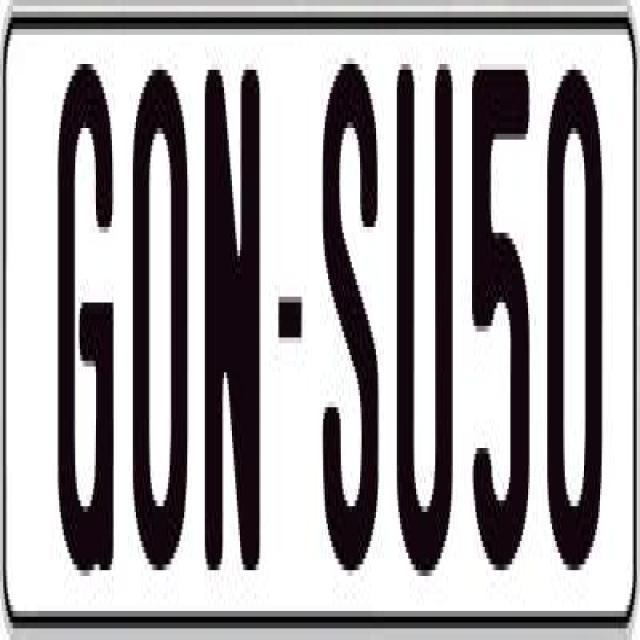0: (547, 58, 611, 588), (128, 70, 184, 576)
5: (468, 70, 534, 570)
G: (56, 46, 122, 588)
N: (203, 58, 264, 594)
S: (318, 52, 379, 570)
U: (395, 52, 458, 576)
